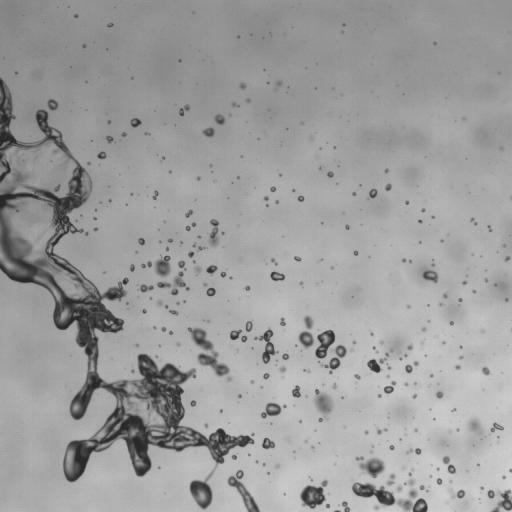droplet: (352, 469, 427, 511), (157, 260, 189, 295), (299, 480, 327, 509), (254, 328, 277, 363), (141, 255, 171, 277), (313, 389, 333, 422), (356, 456, 385, 477), (491, 489, 511, 511), (367, 353, 389, 372), (467, 417, 482, 434), (229, 329, 247, 342), (422, 270, 438, 282), (262, 437, 274, 449), (384, 381, 395, 394), (490, 422, 503, 432), (270, 271, 284, 280), (47, 99, 58, 110), (291, 385, 301, 397), (139, 284, 153, 292), (214, 114, 225, 124), (203, 127, 214, 137), (386, 473, 395, 485), (340, 501, 350, 511), (130, 118, 141, 127), (206, 265, 217, 274), (206, 287, 215, 296), (369, 188, 377, 198), (245, 321, 252, 332), (97, 151, 106, 159), (481, 367, 490, 375), (487, 490, 496, 498), (31, 215, 40, 222), (376, 428, 386, 434), (194, 266, 201, 274), (106, 136, 113, 143), (185, 210, 192, 217), (436, 391, 443, 398), (419, 485, 427, 491), (240, 82, 246, 89), (385, 183, 391, 190), (282, 353, 289, 359), (279, 366, 286, 372), (153, 191, 158, 199), (197, 246, 205, 251), (170, 310, 178, 315), (280, 317, 285, 325), (327, 171, 333, 177), (138, 238, 144, 244), (188, 251, 194, 257), (271, 258, 277, 264), (190, 400, 196, 406), (436, 478, 442, 484), (294, 256, 301, 261), (19, 160, 25, 165), (298, 195, 303, 201), (220, 272, 226, 277), (407, 344, 412, 350), (263, 373, 269, 378), (354, 374, 360, 379), (130, 264, 134, 271), (270, 186, 275, 191), (157, 300, 162, 305), (412, 393, 417, 398), (389, 445, 394, 450), (325, 503, 330, 508), (244, 286, 250, 290), (276, 81, 281, 85), (264, 196, 268, 201), (443, 293, 447, 298), (161, 327, 166, 331), (421, 327, 426, 331), (455, 365, 460, 369), (232, 454, 236, 459), (232, 103, 238, 106), (108, 23, 112, 27), (122, 132, 126, 136), (421, 208, 425, 212), (345, 225, 349, 229), (93, 227, 97, 231), (168, 238, 172, 242), (505, 256, 509, 260), (402, 258, 406, 262), (462, 280, 466, 284), (142, 309, 146, 313), (332, 384, 336, 388), (364, 430, 368, 434), (488, 226, 491, 231), (304, 369, 309, 372), (418, 220, 422, 223), (165, 247, 169, 250), (354, 251, 357, 255), (176, 343, 180, 346), (387, 365, 390, 369), (275, 464, 279, 467), (502, 475, 505, 479), (246, 99, 249, 102), (145, 132, 148, 135), (385, 169, 388, 172), (352, 192, 355, 195), (405, 201, 408, 204), (93, 217, 96, 220), (300, 281, 303, 284), (472, 290, 475, 293), (165, 305, 168, 308), (406, 305, 409, 308), (450, 322, 453, 325), (169, 331, 172, 334), (352, 341, 355, 344), (459, 356, 462, 359), (430, 374, 433, 377), (251, 380, 254, 383), (404, 383, 407, 386), (238, 394, 241, 397), (452, 408, 455, 411), (204, 424, 207, 427), (309, 477, 312, 480), (509, 468, 511, 472), (75, 14, 77, 17), (107, 121, 110, 123), (35, 155, 37, 158), (279, 173, 281, 176), (197, 177, 200, 179), (108, 199, 111, 201), (275, 201, 278, 203), (198, 235, 200, 238), (503, 244, 505, 247), (204, 283, 206, 286), (459, 298, 461, 301), (176, 302, 179, 304), (439, 303, 442, 305), (131, 370, 134, 372), (386, 375, 389, 377), (414, 382, 416, 385), (378, 394, 380, 397), (83, 45, 85, 47), (162, 157, 164, 159), (87, 162, 89, 164), (210, 164, 212, 166), (293, 189, 295, 191), (85, 232, 87, 234), (193, 244, 195, 246), (432, 264, 434, 266), (485, 279, 487, 281), (505, 298, 507, 300), (135, 344, 137, 346), (390, 349, 392, 351), (415, 429, 417, 431), (311, 446, 313, 448), (263, 463, 265, 465), (481, 487, 483, 489)
ligament: (0, 78, 253, 509), (298, 316, 347, 373), (188, 327, 231, 381), (227, 470, 260, 511), (261, 402, 285, 418), (208, 219, 219, 247), (442, 456, 455, 473), (448, 488, 465, 498), (405, 361, 418, 373), (179, 104, 189, 115), (185, 222, 196, 230), (407, 448, 421, 454), (470, 218, 476, 224), (373, 347, 377, 352), (334, 510, 340, 511)
